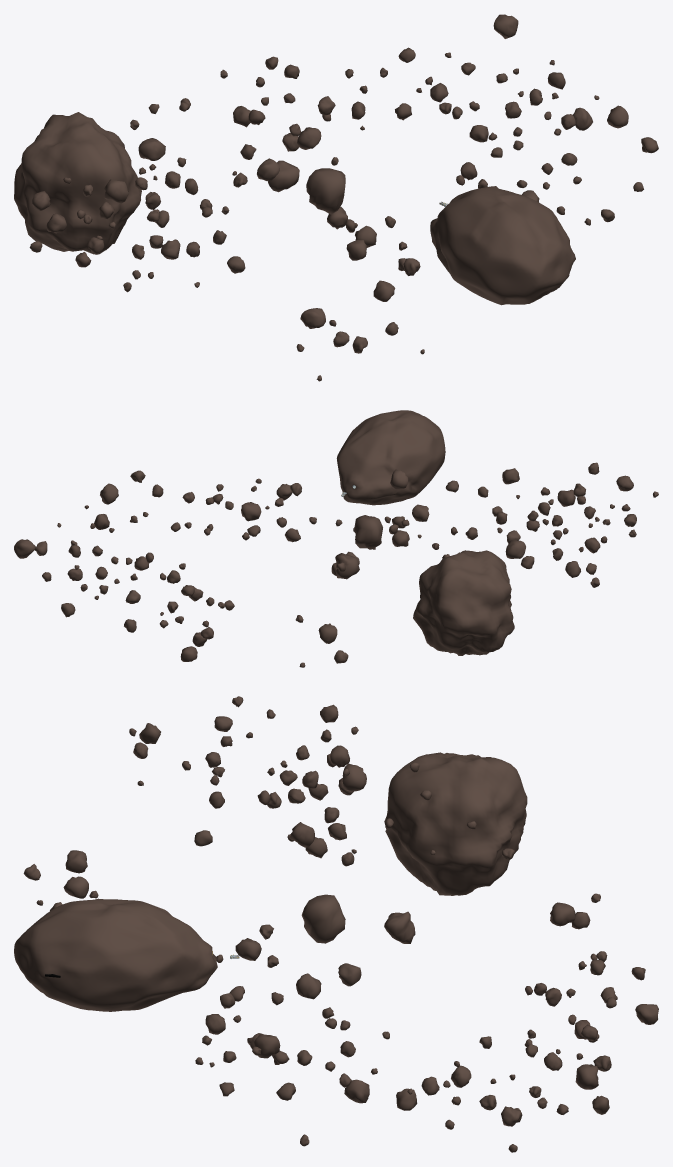
The model's file is level.glb.
The picture shows the model from 3 angles, top to bottom: view 1: azimuth 30°, elevation 25°; view 2: azimuth 150°, elevation 25°; view 3: azimuth 270°, elevation 25°; orthographic projection. The views are drawn at different scales.
Parts seen in each view (by area): view 1: Main Asteroid, Second Asteroid, Small Asteroid, Small Asteroid 2; view 2: Second Asteroid, Main Asteroid, Small Asteroid, Small Asteroid 2; view 3: Main Asteroid, Second Asteroid, Small Asteroid, Small Asteroid 2.
Part boxes in pixels (x1=…): Main Asteroid: x1=430, y1=186, x2=575, y2=305; Second Asteroid: x1=14, y1=112, x2=141, y2=254; Small Asteroid: x1=306, y1=168, x2=345, y2=214; Small Asteroid 2: x1=268, y1=160, x2=299, y2=192; Second Asteroid: x1=413, y1=550, x2=514, y2=655; Main Asteroid: x1=336, y1=410, x2=445, y2=505; Small Asteroid: x1=354, y1=515, x2=382, y2=548; Small Asteroid 2: x1=335, y1=553, x2=359, y2=579; Main Asteroid: x1=14, y1=898, x2=217, y2=1011; Second Asteroid: x1=384, y1=752, x2=527, y2=895; Small Asteroid: x1=301, y1=894, x2=345, y2=943; Small Asteroid 2: x1=384, y1=911, x2=415, y2=943.
Size of what is drawn, in the model's own units: 375 by 86.82 by 321.
